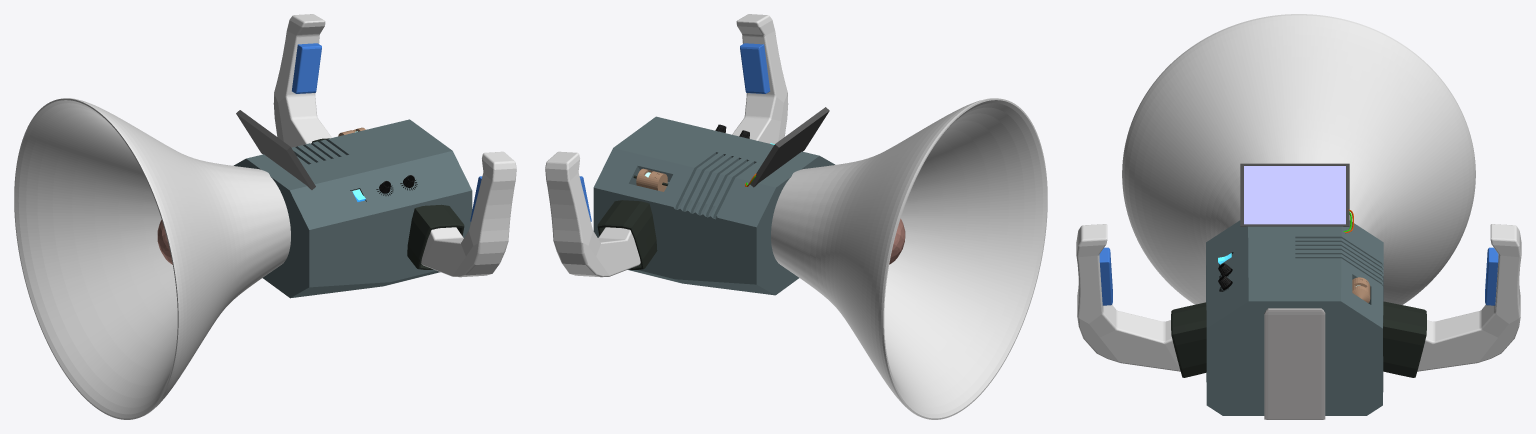
The model's file is GGun.fbx.
3 views of the same model, side by side, from view 1: azimuth 30°, elevation 25°; view 2: azimuth 150°, elevation 25°; view 3: azimuth 270°, elevation 25° (orthographic). The views are drawn at different scales.
Parts seen in each view (by area): view 1: Cone, main, rightArm.001, leftArm, Cube.002, Cube.003, buttonRight; view 2: Cone, main, leftArm, rightArm.001, Cube.001, Cube.003, buttonLeft, Cylinder; view 3: Cone, main, Cube.005, leftArm, rightArm.001, Cube.007, Cube.001, Cube.002, Cube.003, buttonRight, buttonLeft.
Part boxes in pixels (x1,y1,x2,y2): Cone: [14, 98, 290, 419]; main: [233, 119, 472, 298]; rightArm.001: [421, 151, 516, 277]; leftArm: [273, 14, 331, 147]; Cube.002: [407, 204, 464, 269]; Cube.003: [236, 110, 315, 189]; buttonRight: [292, 43, 321, 93]; Cone: [771, 98, 1047, 419]; main: [593, 116, 835, 295]; leftArm: [545, 151, 640, 277]; rightArm.001: [732, 14, 788, 143]; Cube.001: [597, 200, 657, 269]; Cube.003: [750, 107, 829, 187]; buttonLeft: [740, 43, 769, 93]; Cylinder: [636, 168, 667, 191]; Cone: [1122, 14, 1475, 304]; main: [1206, 220, 1383, 415]; Cube.005: [1264, 308, 1325, 419]; leftArm: [1417, 224, 1521, 371]; rightArm.001: [1076, 224, 1180, 371]; Cube.007: [1244, 166, 1345, 224]; Cube.001: [1383, 301, 1426, 377]; Cube.002: [1171, 302, 1206, 377]; Cube.003: [1240, 163, 1349, 226]; buttonRight: [1485, 247, 1498, 305]; buttonLeft: [1099, 247, 1112, 305].
Bounding box in the file's own units: 2054 × 1739 × 2187.
